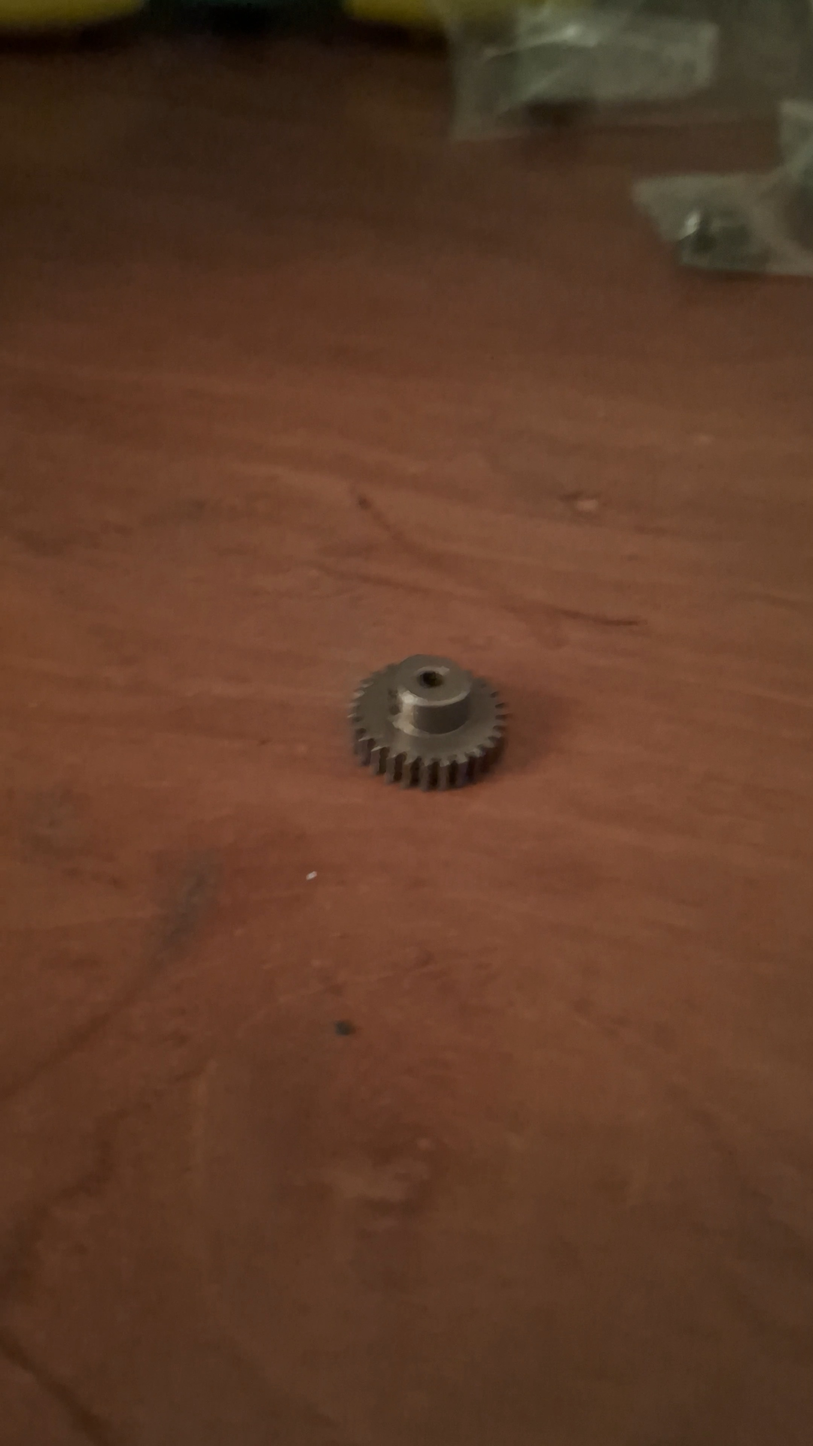spur gear: (350, 655, 504, 789)
